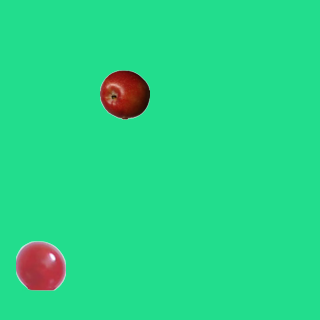Apple Braeburn: (99, 69, 149, 119)
Redcurrant: (15, 240, 65, 290)
